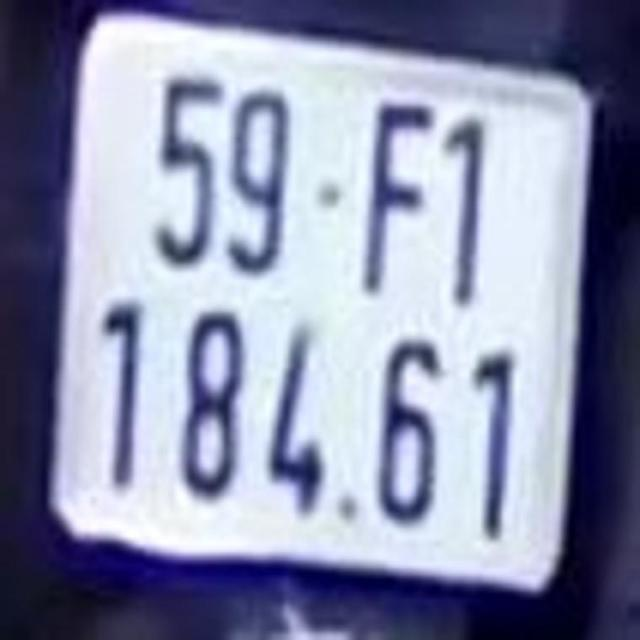1: (95, 296, 146, 490), (469, 343, 518, 543), (442, 109, 487, 307)
4: (268, 317, 327, 517)
5: (152, 70, 222, 268)
6: (378, 332, 442, 526)
8: (180, 305, 244, 500)
9: (227, 82, 289, 276)
F: (363, 97, 434, 296)
